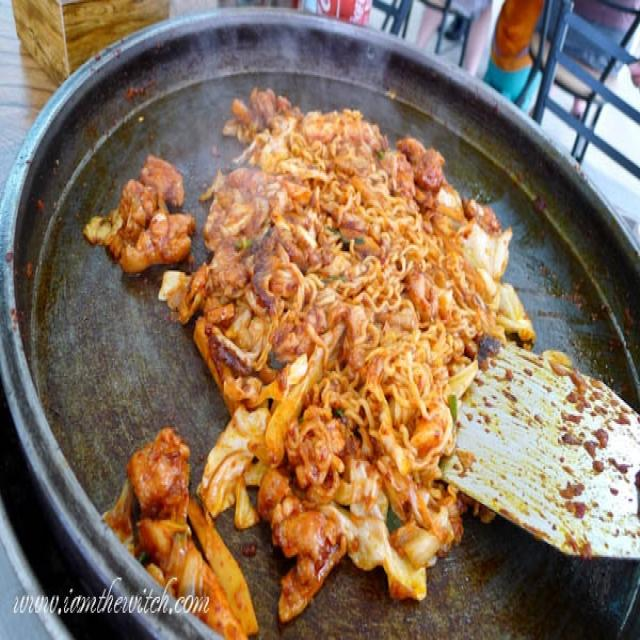鸡肉料理 含炸鸡: (14, 24, 622, 634)
